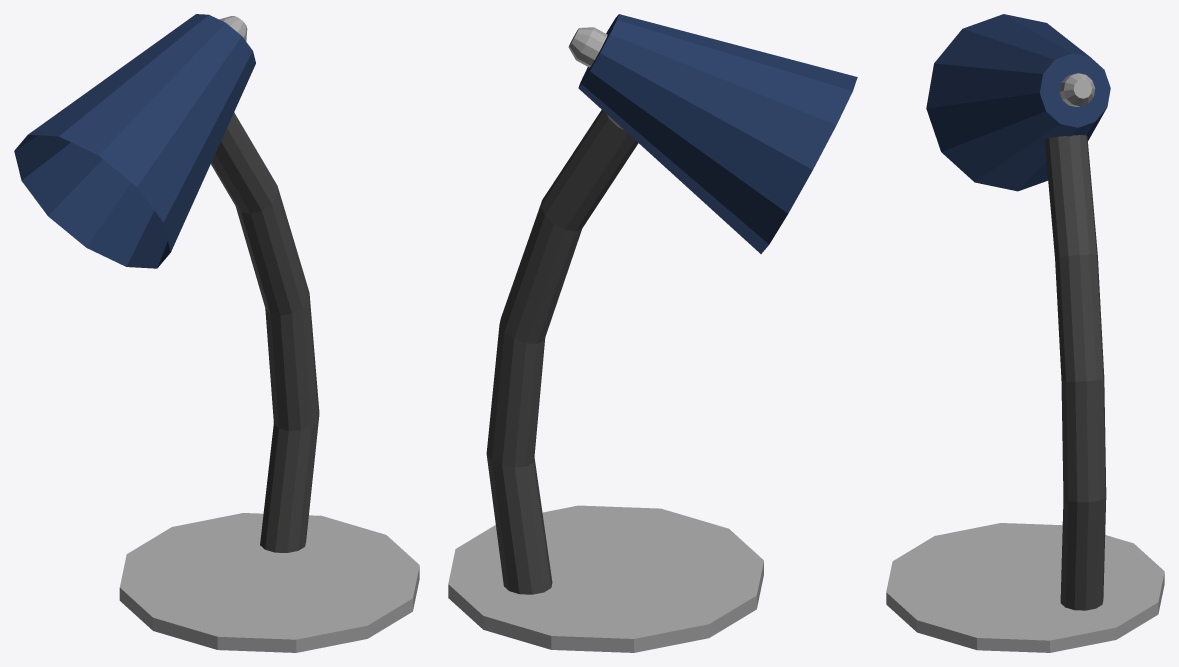
File: lamp.FBX
3 renders of one model, left to right at view 1: azimuth 30°, elevation 25°; view 2: azimuth 150°, elevation 25°; view 3: azimuth 270°, elevation 25°, orthographic. The views are drawn at different scales.
Visible parts, largest first — view 1: lamp; view 2: lamp; view 3: lamp.
Part boxes in pixels (x1,y1,x2,y2): lamp: (14,14,419,652); lamp: (448,14,857,652); lamp: (886,14,1164,652).
Size of the model in its own units: 19.3 by 28.92 by 13.92.
Materials: 1 (1 with a texture image).
